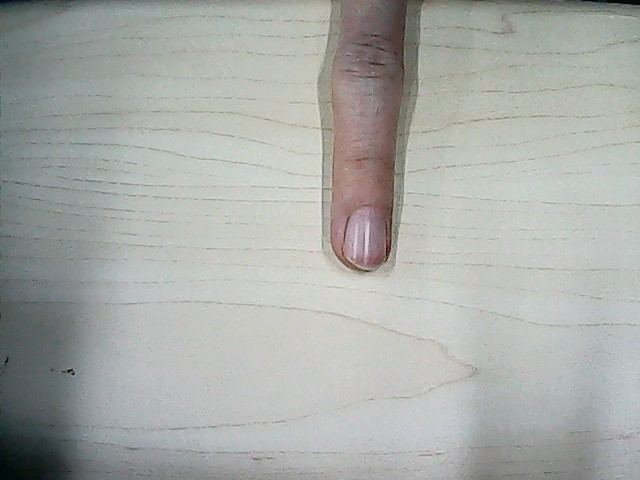nail: (342, 204, 393, 271)
